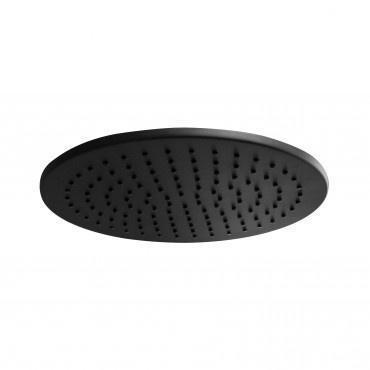Ducha: (32, 119, 326, 244)
